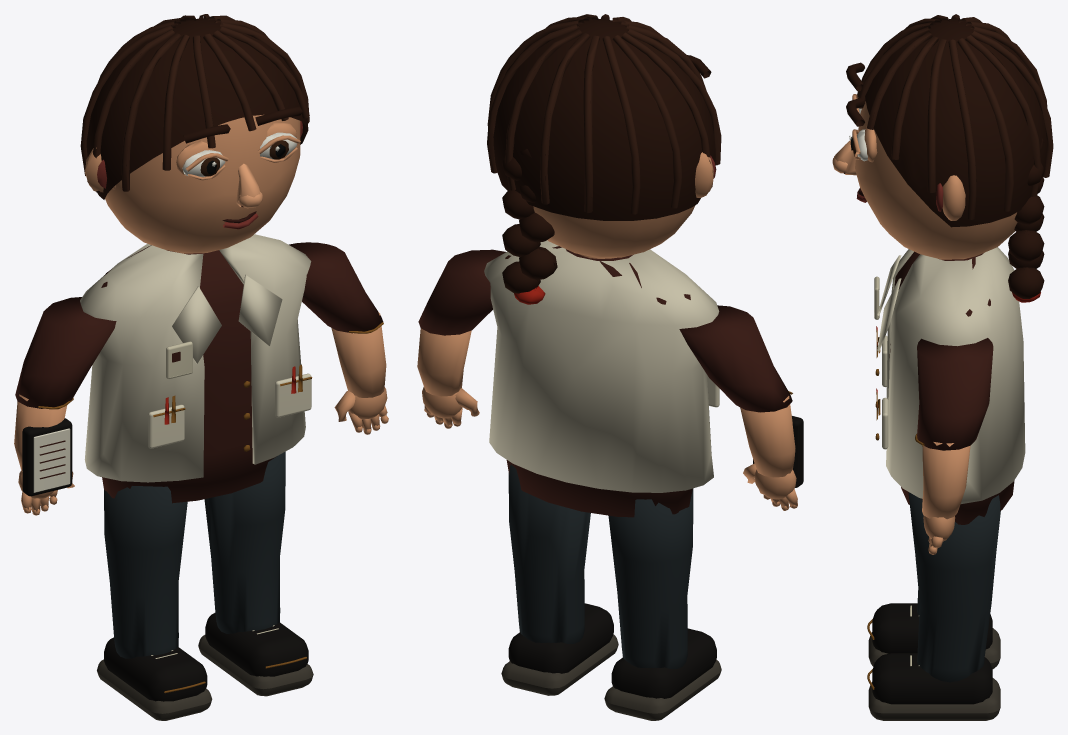
The model's file is doctor-32.glb.
3 renders of one model, left to right at view 1: azimuth 30°, elevation 25°; view 2: azimuth 150°, elevation 25°; view 3: azimuth 270°, elevation 25°, orthographic.
Visible parts, largest first — view 1: Body, Head, LegL, LegR, ArmL, ArmR; view 2: Body, Head, LegL, LegR, ArmL, ArmR; view 3: Head, Body, LegR, ArmR, LegL.
Part boxes in pixels (x1,y1,x2,y2): Body: (80,211,312,503); Head: (80,14,309,253); LegL: (97,486,212,720); LegR: (198,451,313,696); ArmL: (14,297,116,515); ArmR: (289,242,388,434); Body: (484,190,719,517); Head: (487,14,721,257); LegL: (604,488,721,720); LegR: (501,464,618,695); ArmL: (679,305,803,510); ArmR: (417,249,505,428); Head: (832,14,1053,259); Body: (856,188,1044,524); LegR: (867,492,1000,720); ArmR: (915,338,993,554); LegL: (867,589,1000,669).
Size of the model in its own units: 0.7318 by 1.24 by 0.3788.
